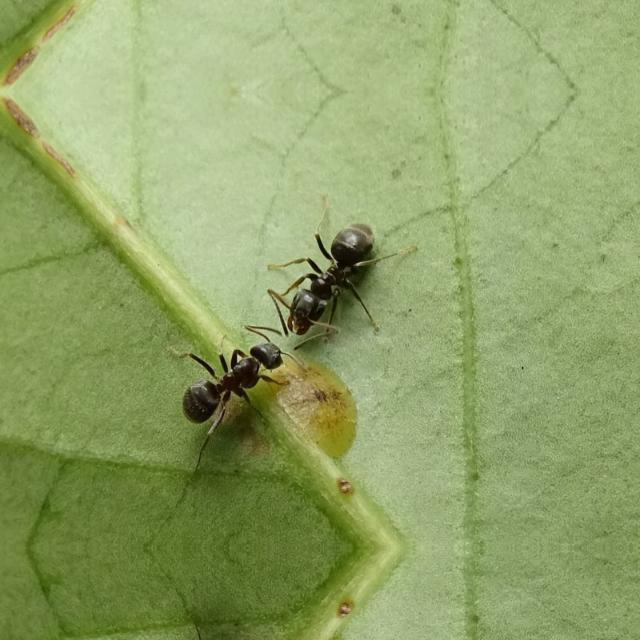Lasius: (257, 215, 399, 342), (172, 317, 290, 441)
